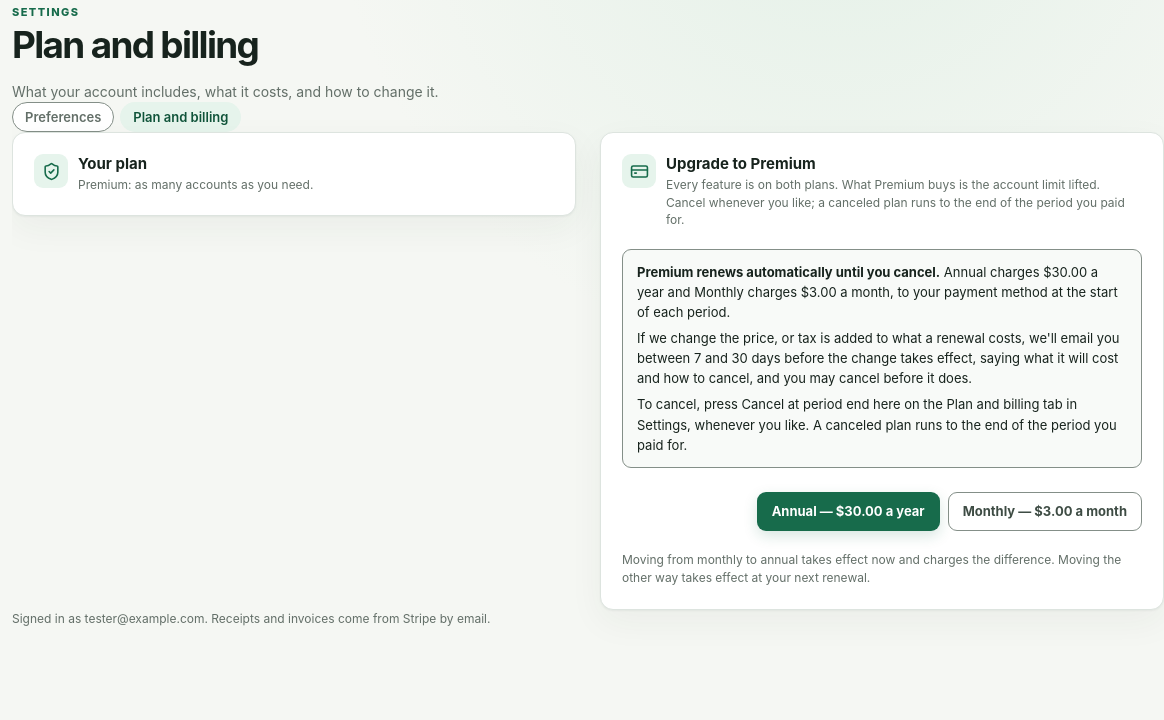
Test: the renewal terms › sit beside the payment form's confirm button, for the plan being paid for alone
The image size is (1164, 720).
Click the button "Monthly — $3.00 a month": {"x": 1045, "y": 511} [948, 492, 1142, 531]
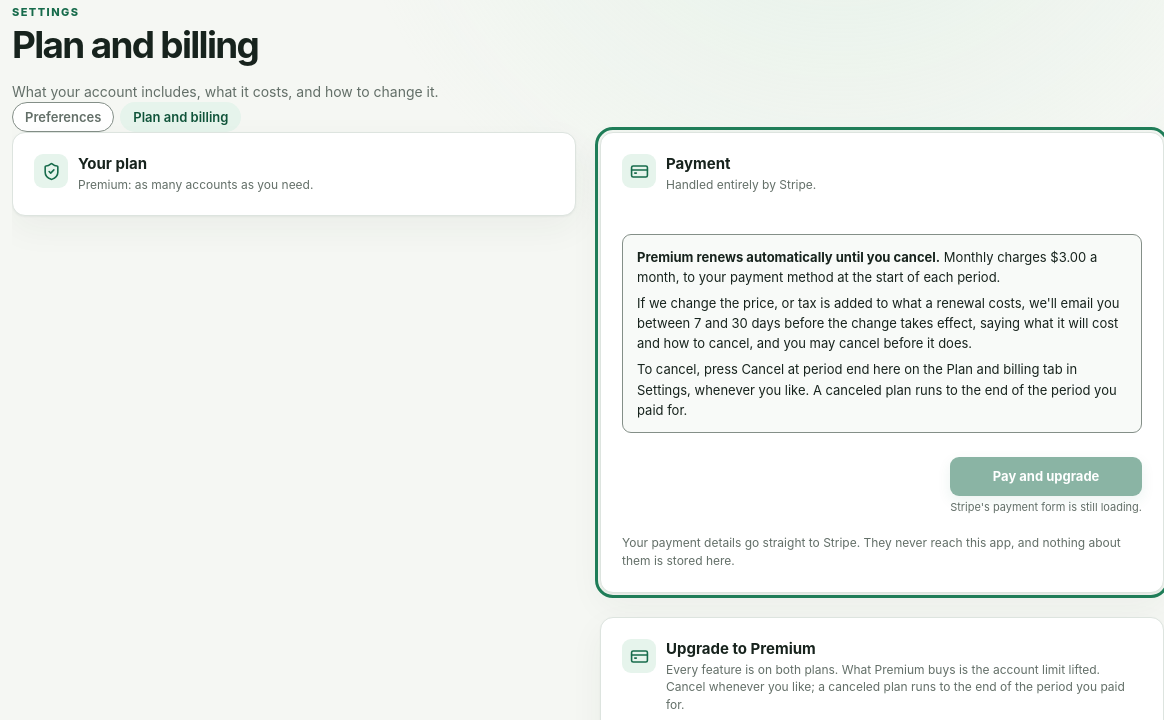
Expected: the text "renews automatically until you cancel" does not show "Annual", [622, 234, 1142, 433]
Expected: the text "renews automatically until you cancel" shows "Monthly charges $3.00 a month, to your payment method", [622, 234, 1142, 433]
